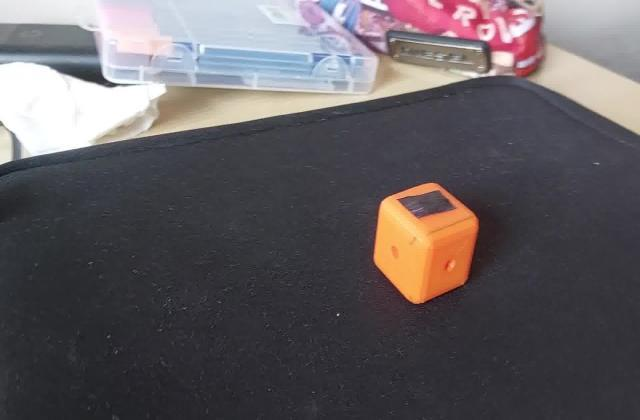black: (396, 190, 452, 223)
cube: (372, 179, 484, 308)
